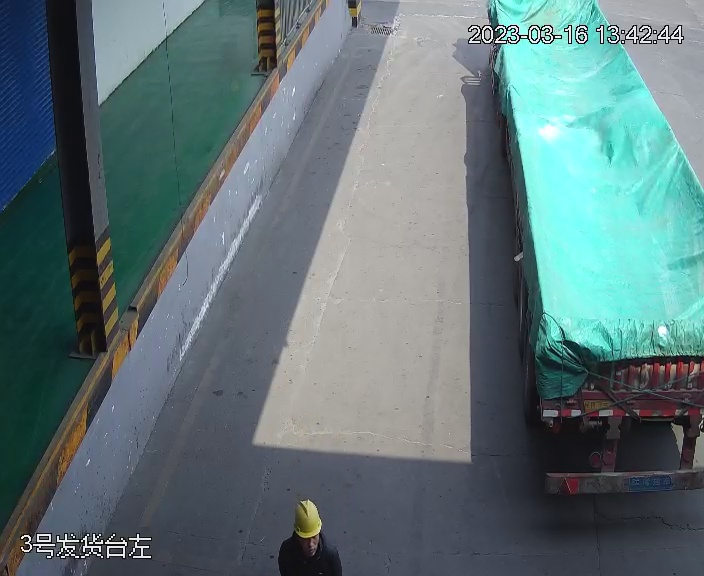head: (276, 498, 344, 576)
helmet: (292, 499, 322, 538)
truck: (475, 1, 704, 511)
